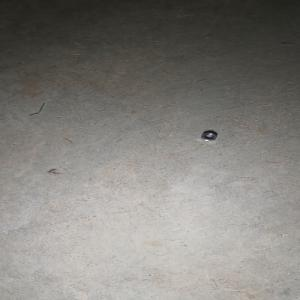Nut: (199, 131, 216, 141)
